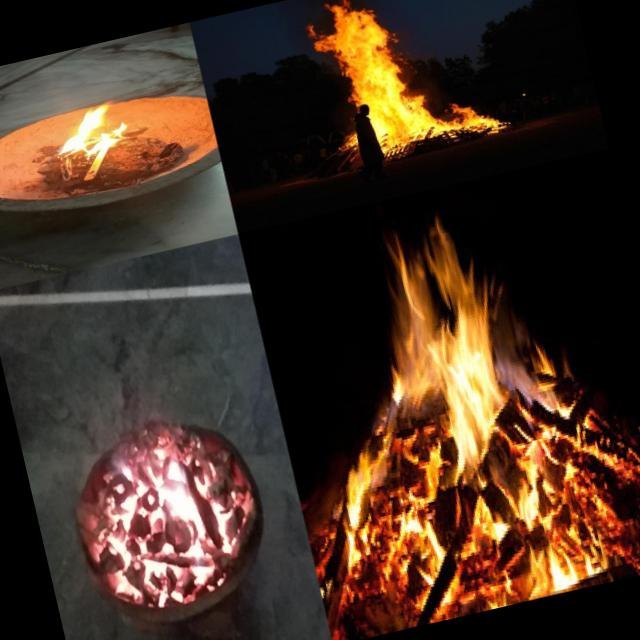fire: (270, 187, 618, 575), (61, 399, 268, 625), (305, 0, 507, 168), (40, 91, 142, 166)
